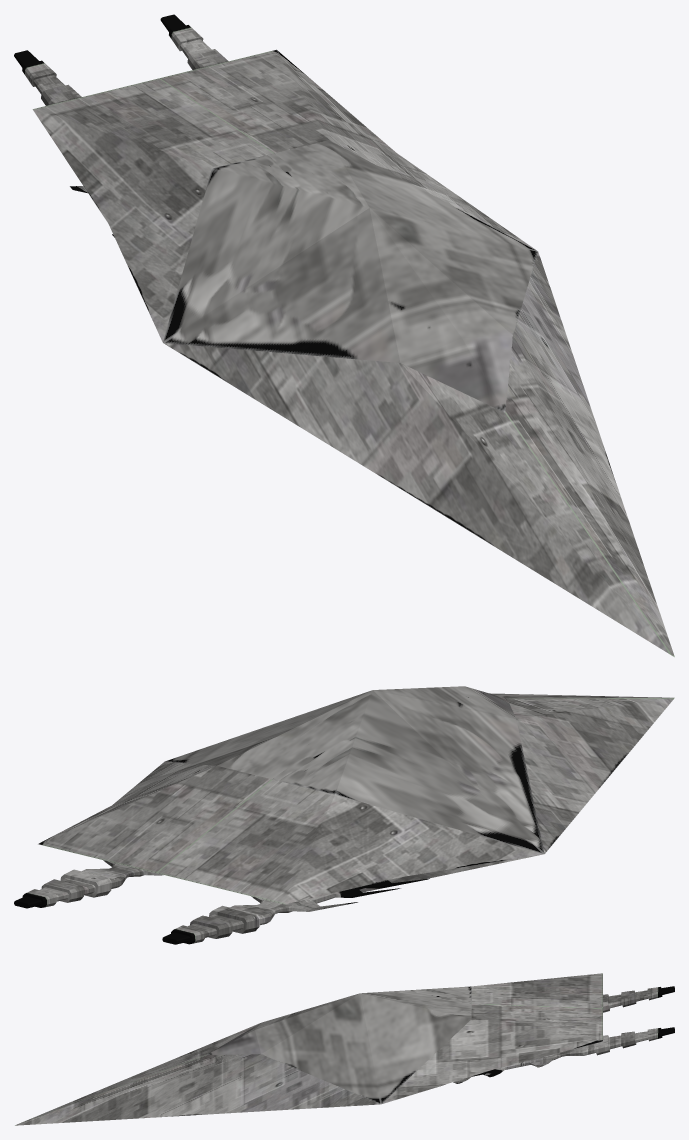
The model's file is wing_weak_open_syuusei.fbx.
3 views of the same model, one above another, from view 1: azimuth 30°, elevation 25°; view 2: azimuth 150°, elevation 25°; view 3: azimuth 270°, elevation 25° (orthographic). The views are drawn at different scales.
Visible parts, largest first — view 1: polySurface3283, polySurface3233, polySurface3302; view 2: polySurface3283, polySurface3233, polySurface3302; view 3: polySurface3283, polySurface3233, polySurface3302.
Part boxes in pixels (x1,y1,x2,y2): polySurface3283: (32,49,674,657); polySurface3233: (163,140,537,412); polySurface3302: (14,14,228,237); polySurface3283: (38,693,674,904); polySurface3233: (165,686,544,853); polySurface3302: (14,860,429,944); polySurface3283: (15,973,602,1125); polySurface3233: (207,986,471,1104); polySurface3302: (453,986,674,1083).
Size of the model in its own units: 3.92 by 2.29 by 10.43.
Materials: 2 (1 with a texture image).
